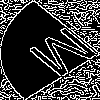M: (25, 25, 100, 87)
